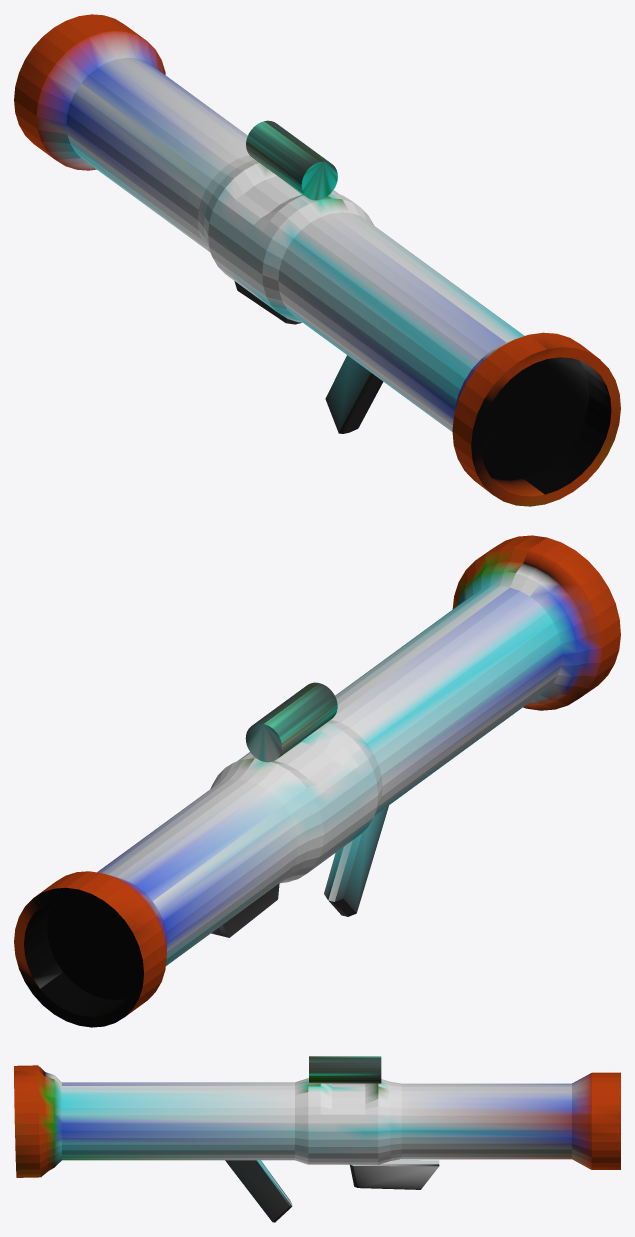
File: Bazooka.fbx
3 views of the same model, one above another, from view 1: azimuth 30°, elevation 25°; view 2: azimuth 150°, elevation 25°; view 3: azimuth 270°, elevation 25° (orthographic). The views are drawn at different scales.
Parts seen in each view (by area): view 1: Bazooka; view 2: Bazooka; view 3: Bazooka.
Part boxes in pixels (x1=…): Bazooka: x1=14, y1=14, x2=620, y2=506; Bazooka: x1=14, y1=535, x2=620, y2=1027; Bazooka: x1=14, y1=1056, x2=620, y2=1222.
Size of the model in its own units: 67.11 by 108 by 363.
